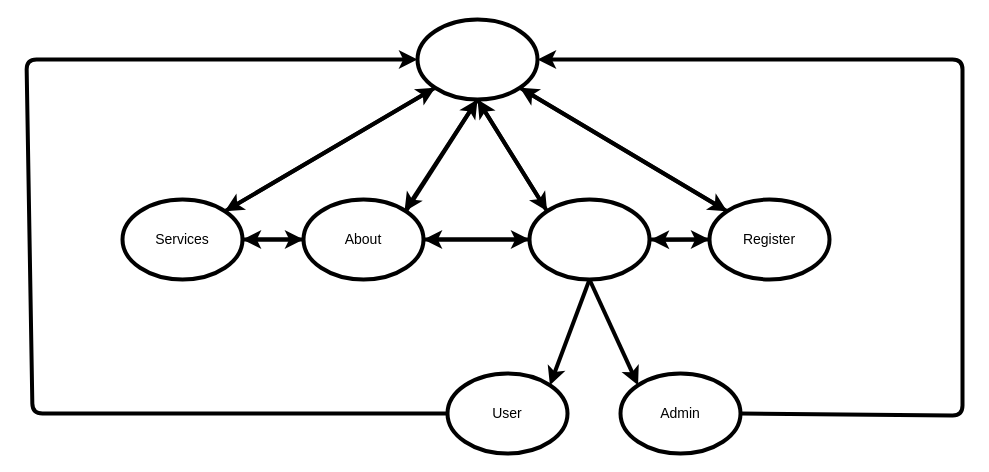
This 989x472 diagram has some shape labels left out. The centre of each missing label's shape, as x and y in pixels:
Home: point (477, 59)
Login: point (589, 239)
